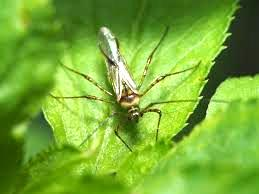Helopeltis-insect: (91, 29, 151, 132)
